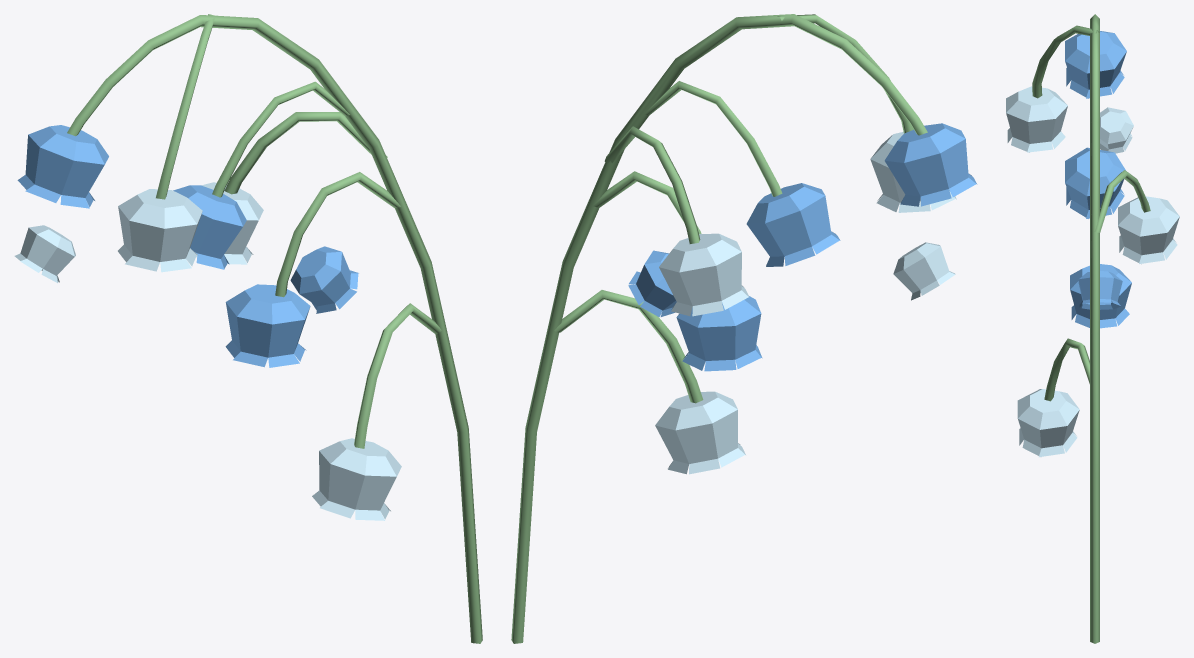
Rendered from lily2.glb.
3 views of the same model, side by side, from view 1: azimuth 30°, elevation 25°; view 2: azimuth 150°, elevation 25°; view 3: azimuth 270°, elevation 25° (orthographic). The views are drawn at different scales.
Parts seen in each view (by area): view 1: BézierCurve.001; view 2: BézierCurve.001; view 3: BézierCurve.001.
Boxes of the visible parts, x1,y1,x2,y2 form: BézierCurve.001: [14, 14, 482, 643]; BézierCurve.001: [511, 14, 977, 643]; BézierCurve.001: [1006, 14, 1179, 643].
Size of the model in its own units: 4.75 by 6.82 by 2.08.
